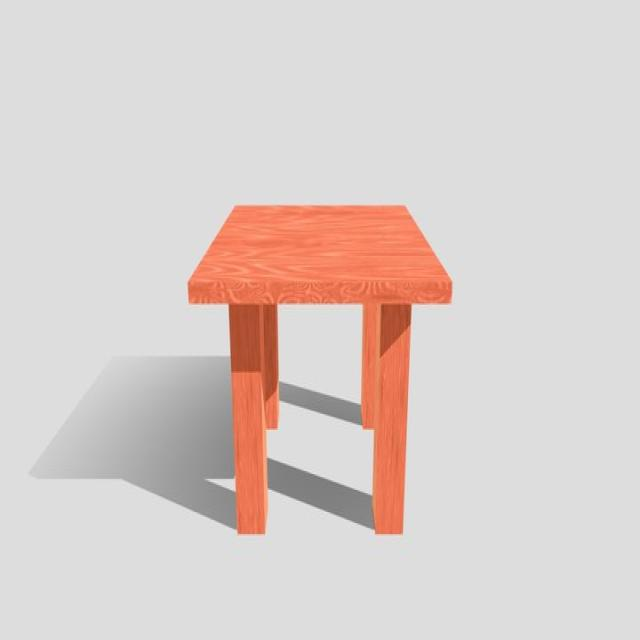table: (186, 200, 452, 535)
